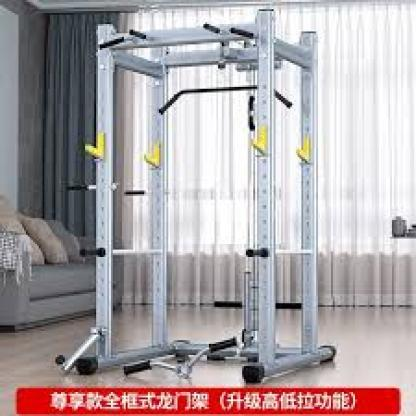smith machine: (76, 7, 336, 383)
